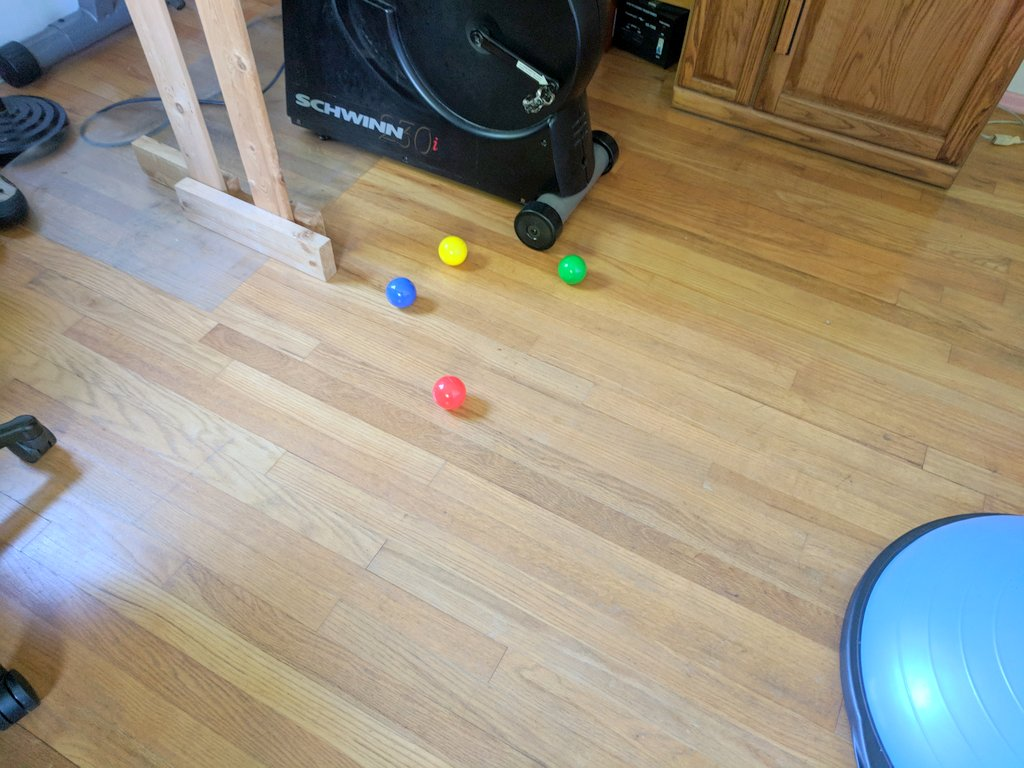ball: (432, 375, 467, 411)
